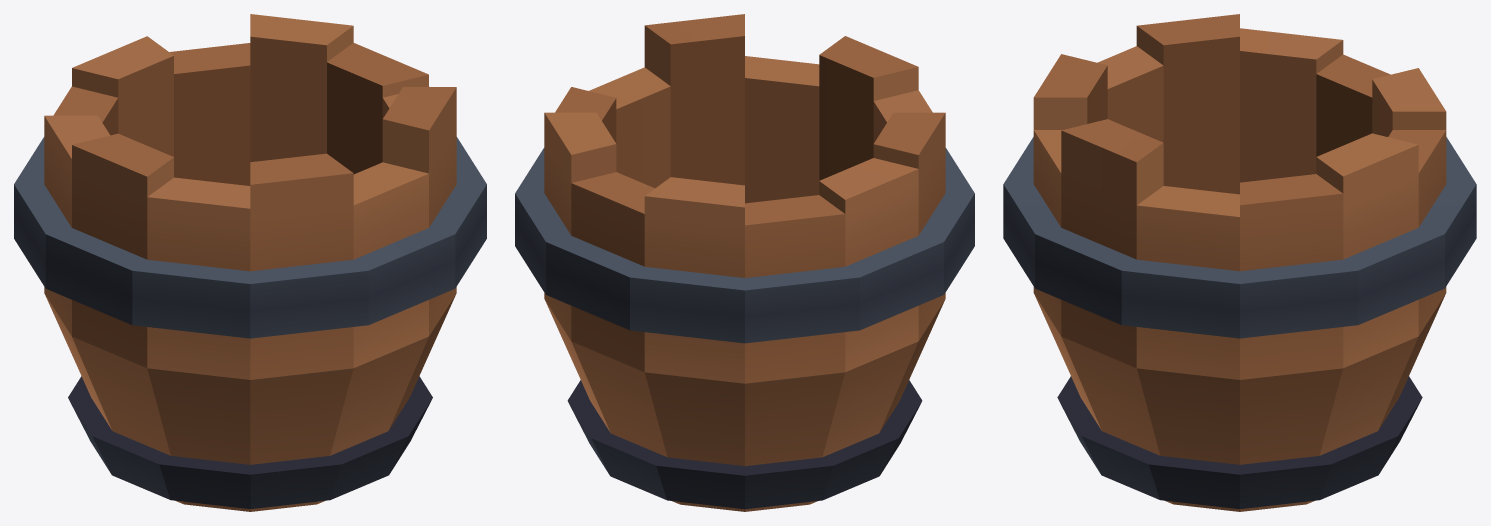
The model's file is mt_prop_bucket.fbx.
3 renders of one model, left to right at view 1: azimuth 30°, elevation 25°; view 2: azimuth 150°, elevation 25°; view 3: azimuth 270°, elevation 25°, orthographic. The views are drawn at different scales.
Visible parts, largest first — view 1: prop_bucket; view 2: prop_bucket; view 3: prop_bucket.
Boxes of the visible parts, x1,y1,x2,y2 form: prop_bucket: (14,14,486,511); prop_bucket: (515,14,974,511); prop_bucket: (1003,14,1476,511).
Size of the model in its own units: 89.65 by 77.13 by 89.65.
